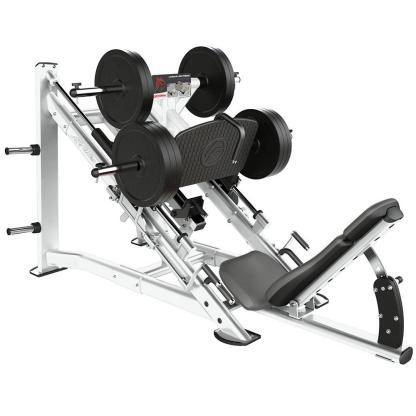leg press: (2, 27, 416, 370)
